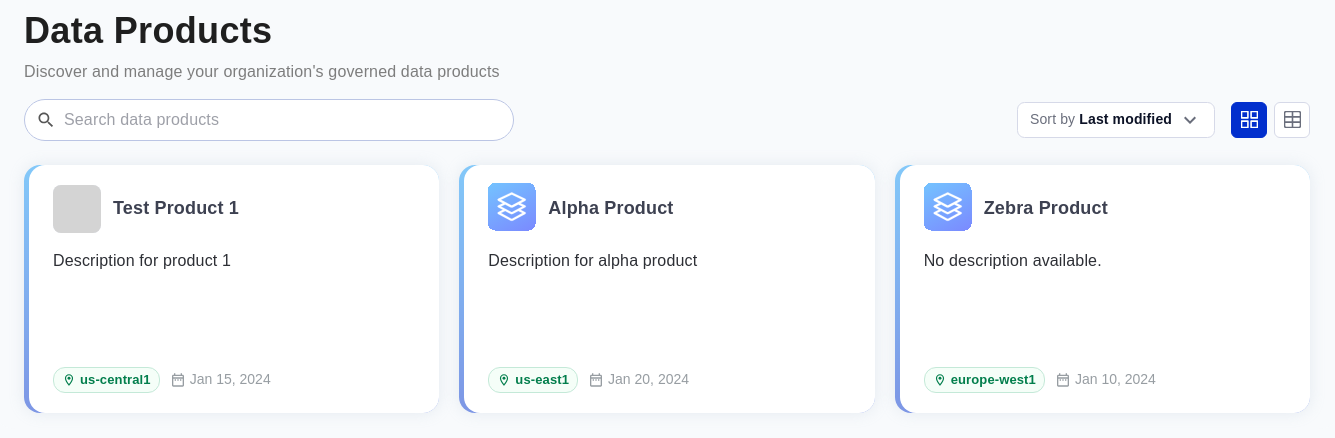
Test: DataProducts Components › DataProducts › sorting functionality › should open sort menu when clicking sort button
Click the text "Last modified" at (1126, 120), box [1079,112,1172,128]
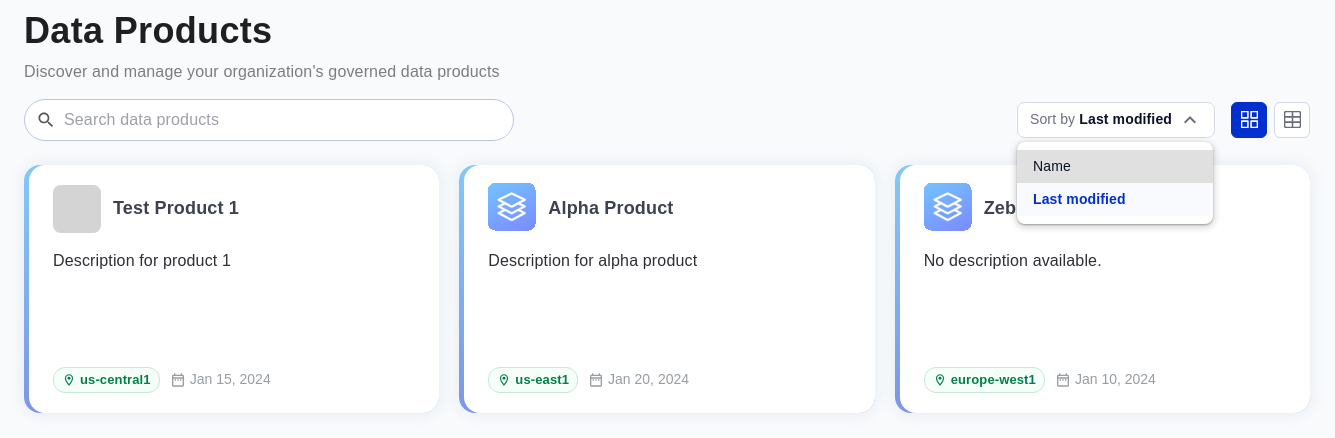
Result: the menu is shown at [1017,142,1213,224]
